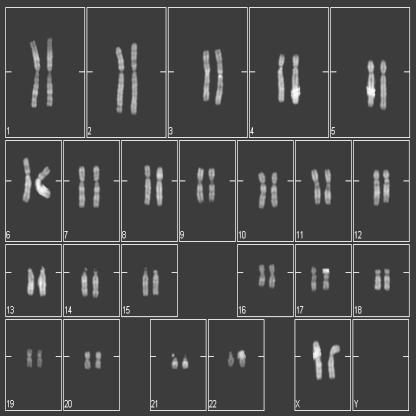1: (27, 35, 43, 110), (42, 34, 58, 108)
10: (256, 168, 266, 210), (269, 168, 278, 210)
11: (310, 164, 324, 211), (323, 163, 337, 210)
12: (370, 166, 382, 210), (382, 166, 393, 210)
13: (26, 264, 34, 299), (38, 265, 46, 300)
14: (78, 264, 90, 300), (90, 264, 100, 300)
15: (150, 262, 163, 306), (138, 262, 150, 306)
16: (257, 261, 268, 292), (267, 262, 278, 293)
17: (320, 263, 330, 291), (309, 264, 318, 292)
18: (380, 262, 392, 302), (374, 264, 382, 302)
19: (35, 342, 46, 369), (25, 343, 35, 370)
2: (113, 40, 127, 118), (128, 40, 142, 118)
20: (81, 344, 93, 372), (93, 344, 105, 372)
21: (168, 346, 182, 378), (180, 346, 194, 378)
22: (223, 346, 238, 374), (236, 346, 250, 374)
3: (202, 45, 212, 110), (214, 45, 223, 110)
4: (276, 50, 288, 108), (288, 50, 300, 108)
5: (365, 54, 377, 112), (377, 54, 389, 110)
6: (34, 152, 52, 206), (21, 152, 34, 206)
7: (76, 161, 88, 211), (90, 160, 100, 209)
8: (154, 159, 164, 214), (142, 158, 152, 212)
9: (206, 162, 218, 206), (194, 163, 206, 206)
X: (310, 336, 324, 384), (326, 336, 340, 384)
